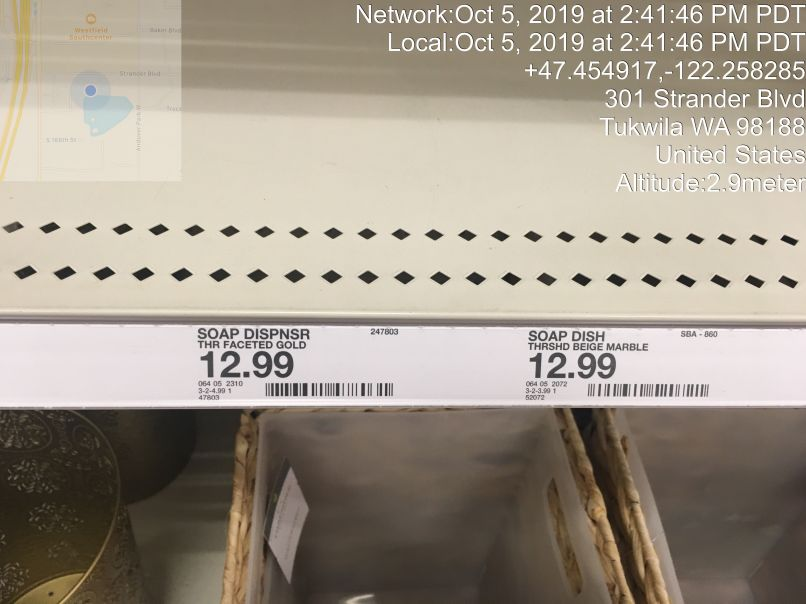Label: (193, 318, 406, 409), (518, 317, 727, 406)
Location: (596, 84, 806, 170)
Time: (348, 1, 806, 58)
Void: (7, 17, 796, 293)
